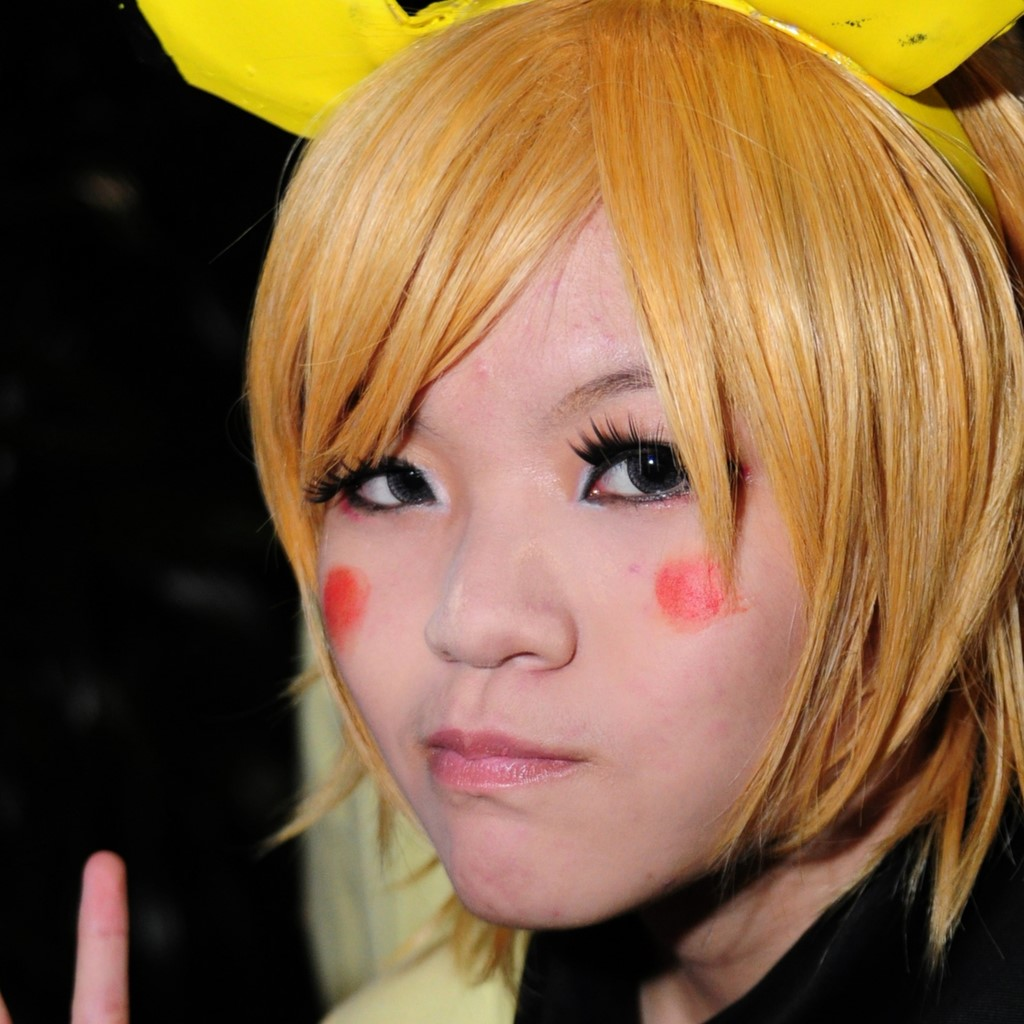sin_mascara: (276, 84, 950, 950)
